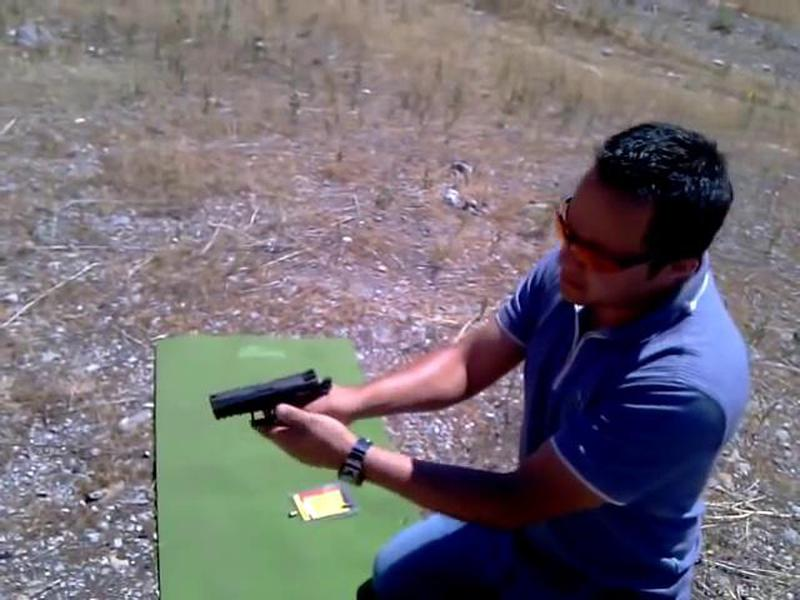Pistola: (201, 363, 335, 467)
